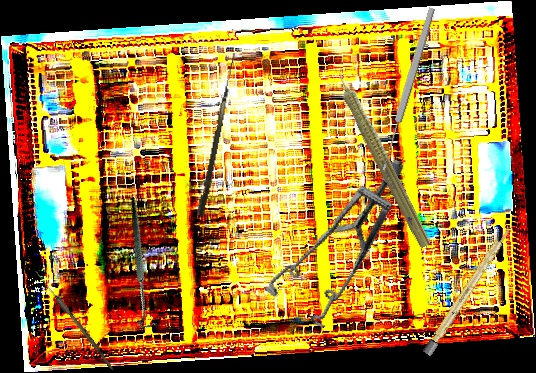Handpiece: (323, 53, 439, 251)
Hook Surgical: (86, 196, 200, 333), (196, 51, 236, 217)
Scalpel Handle: (422, 223, 514, 357)
Speculum: (237, 158, 447, 343)
Surgical Spoon: (378, 6, 437, 172), (32, 269, 117, 371)
